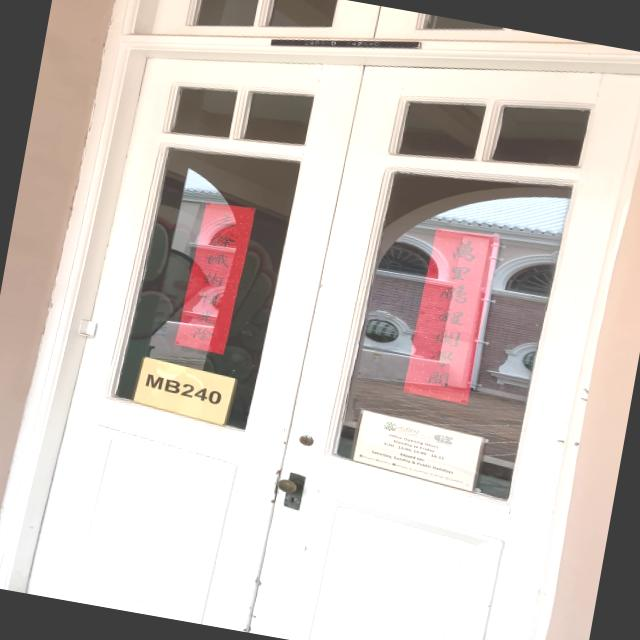room240: (131, 356, 236, 428)
